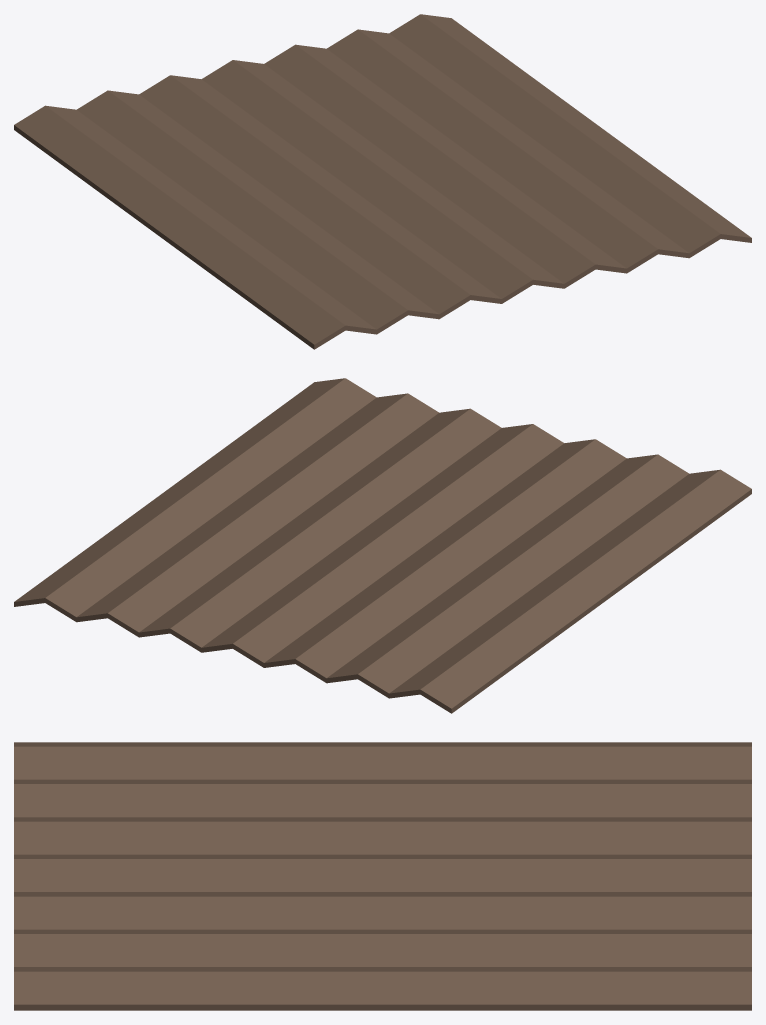
File: MetalTile_01.fbx
The picture shows the model from 3 angles, top to bottom: view 1: azimuth 30°, elevation 25°; view 2: azimuth 150°, elevation 25°; view 3: azimuth 270°, elevation 25°; orthographic projection. The views are drawn at different scales.
Visible parts, largest first — view 1: MetalTile_01; view 2: MetalTile_01; view 3: MetalTile_01.
Part boxes in pixels (x1=…): MetalTile_01: x1=14, y1=14, x2=751, y2=349; MetalTile_01: x1=14, y1=378, x2=751, y2=713; MetalTile_01: x1=14, y1=742, x2=751, y2=1010.
Bounding box in the file's own units: 183 × 6.64 × 217.
